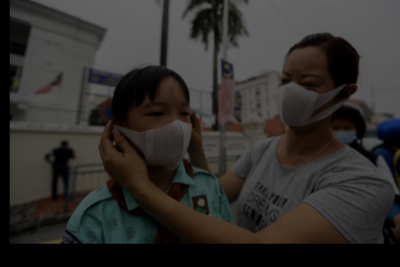with_mask: (129, 98, 193, 170), (275, 68, 332, 127)
